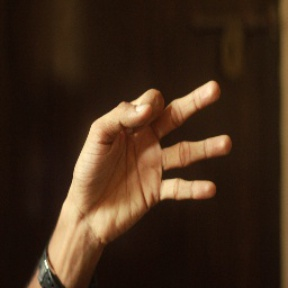K: (63, 78, 234, 219)
